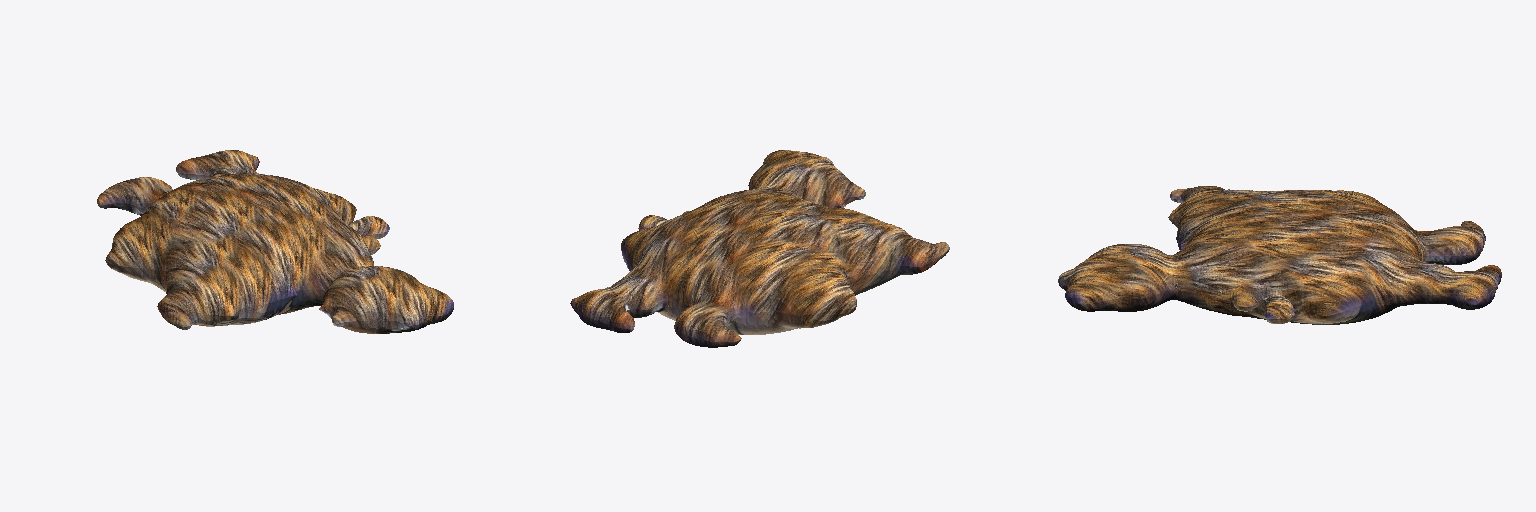
3 views of the same model, side by side, from view 1: azimuth 30°, elevation 25°; view 2: azimuth 150°, elevation 25°; view 3: azimuth 270°, elevation 25° (orthographic).
Parts seen in each view (by area): view 1: Object.1; view 2: Object.1; view 3: Object.1.
Part boxes in pixels (bbox=[...]): Object.1: bbox=[97, 150, 453, 333]; Object.1: bbox=[570, 150, 949, 347]; Object.1: bbox=[1058, 186, 1501, 324].
Bounding box in the file's own units: 0.3136 × 0.1058 × 0.4648.
1 materials, 1 textured.